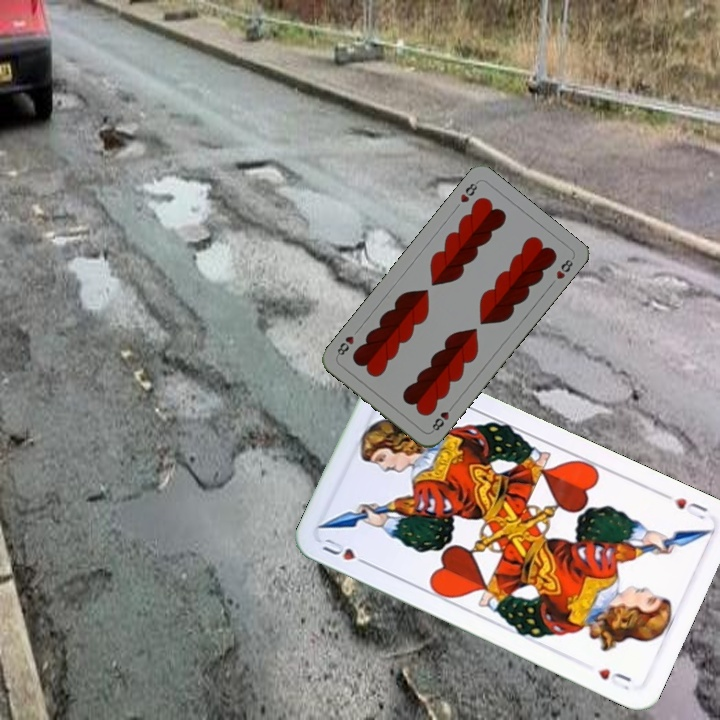H8: (427, 400, 457, 435), (456, 177, 481, 205)
HU: (318, 534, 373, 569), (670, 493, 711, 522)
